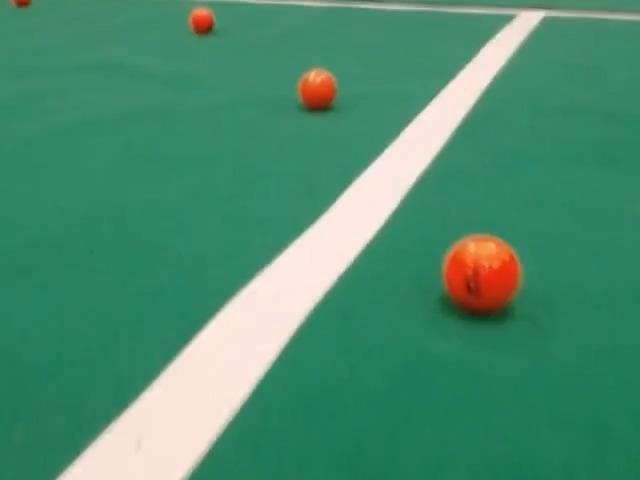Ball: (442, 234, 522, 313), (298, 68, 336, 110), (189, 7, 214, 35)
